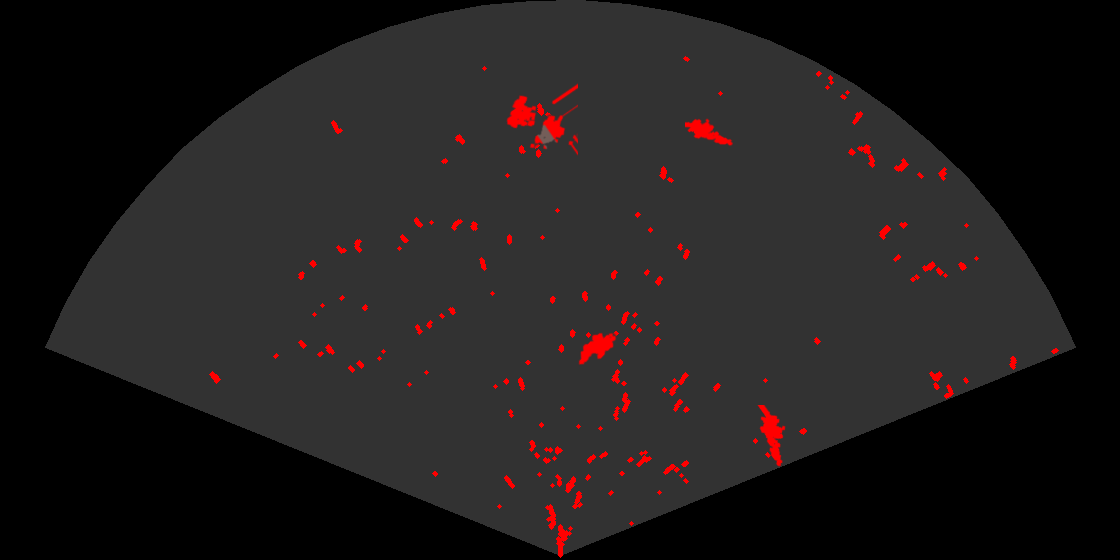AUV: (577, 331, 618, 367)
cage: (505, 82, 578, 157)
frogman: (756, 405, 787, 468), (685, 117, 733, 147)
